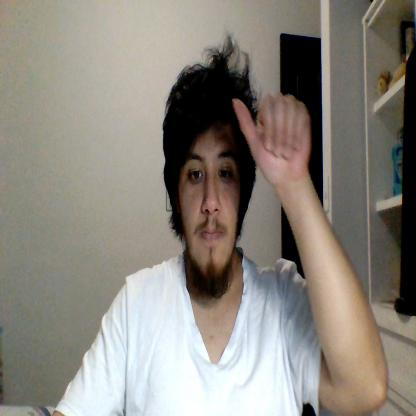A: (232, 91, 310, 182)
